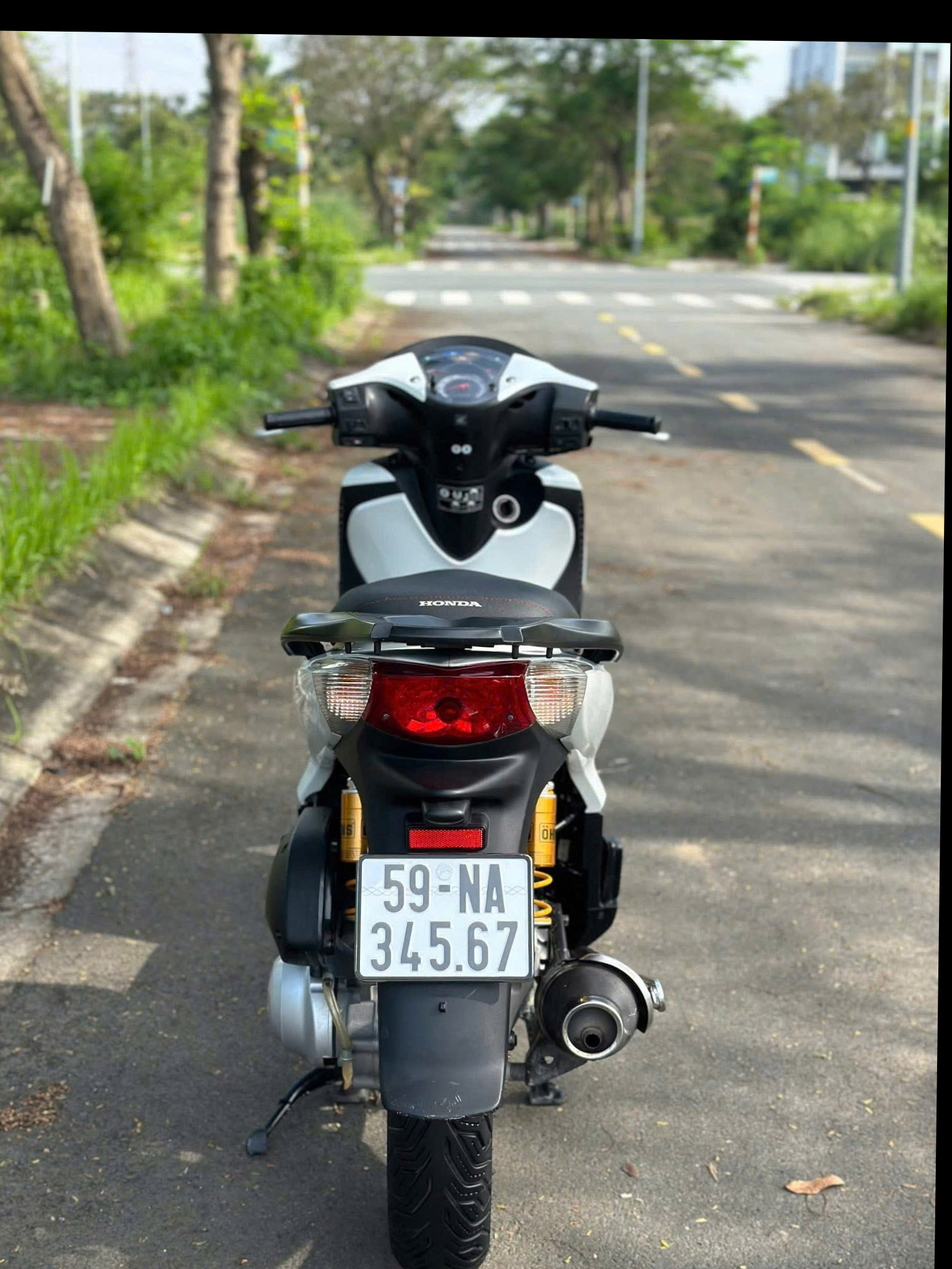Bien-so: (359, 859, 541, 978)
